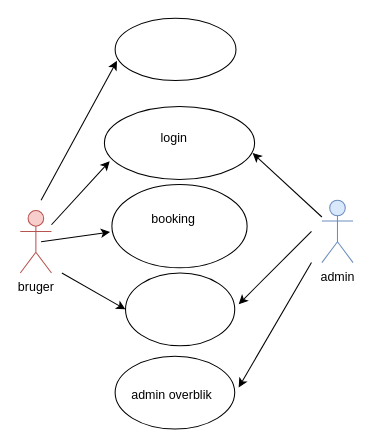
Image size: 372x447. Some labels were removed from this diagram. Here are the shapes that lost their labels. From the top down, the centre of each, then its label:
the point at 175,49: betaling
the point at 179,309: log af
